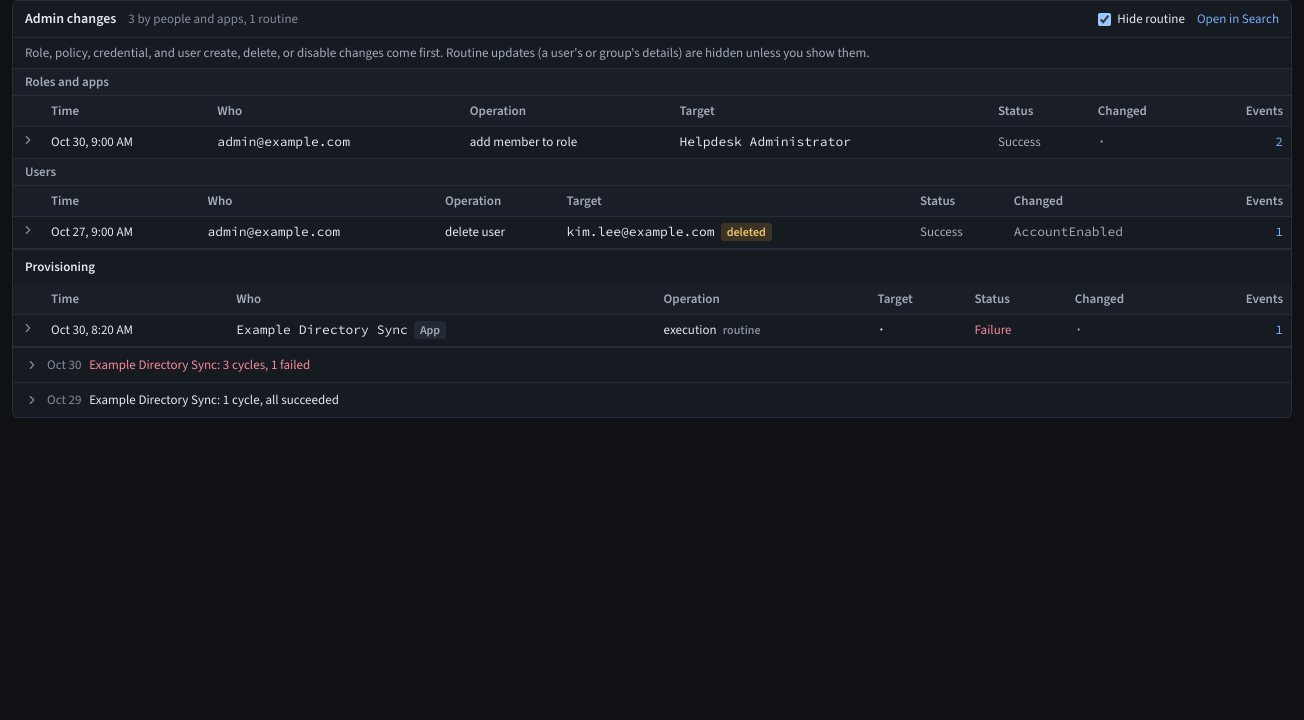
Test: Microsoft 365 > Admin (owner, 2026-11-01) › shows real changes, hides routine ones until asked, and names apps
Expected: the headings read "Roles and apps", "Users", "Provisioning", in this order, [13,69,1291,96]; [13,159,1291,186]; [25,258,95,275]
Expected: the text "kim.lee@example.com" is shown, [566,223,715,240]
Click the checkbox labelled "Hide routine": x=1105, y=19 [1098,12,1111,26]
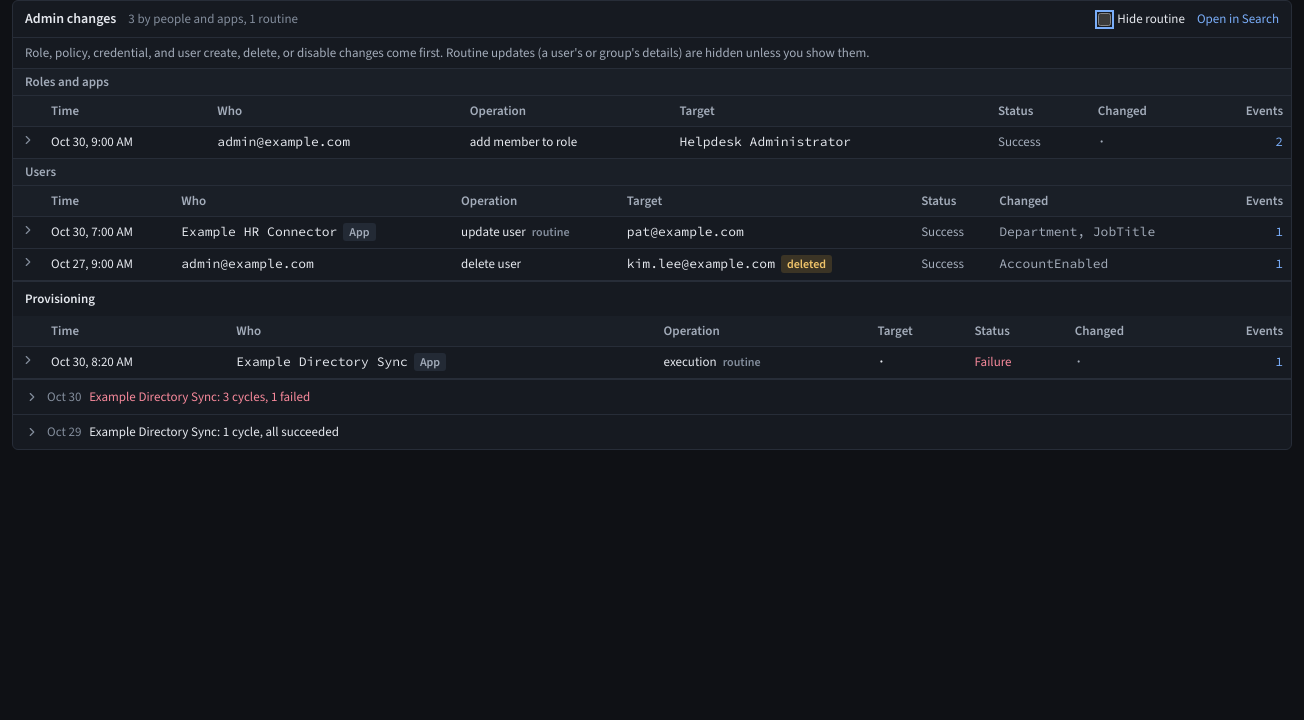
Expected: the text "App" next to "Example HR Connector" is shown, [349,224,370,240]
Expected: the text "Department, JobTitle" is shown, [991,216,1220,248]
Click the button named "Show details" next to "Oct 30, 7:00 AM": x=28, y=230 [21,223,35,237]
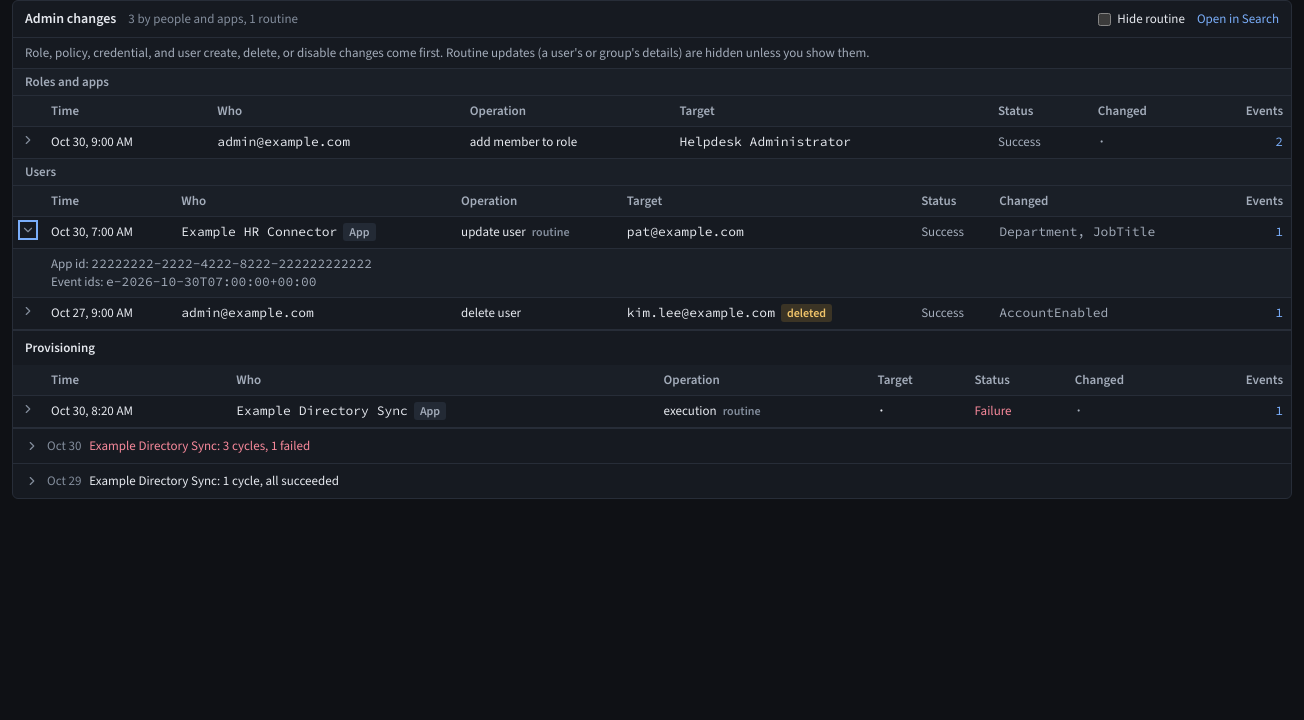
Expected: the table named "Failed cycles" is shown, [13,365,1291,428]
Expected: the text "22222222-2222-4222-8222-222222222222" is shown, [91,255,372,272]
